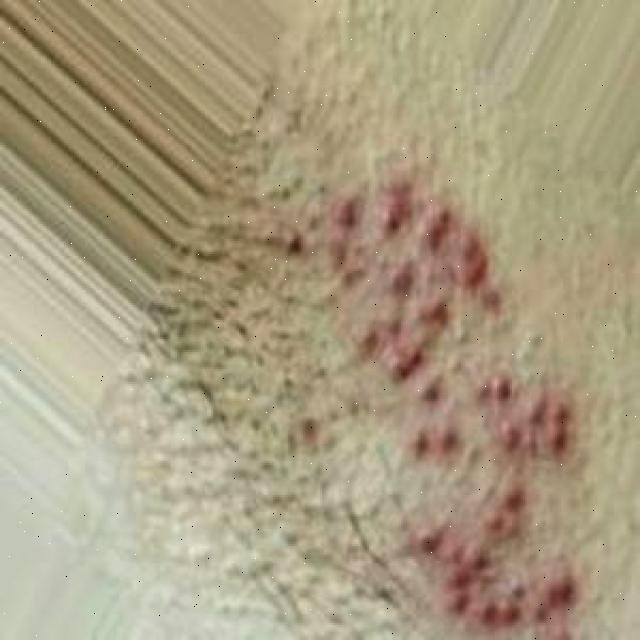Shingles: (330, 172, 579, 628)
